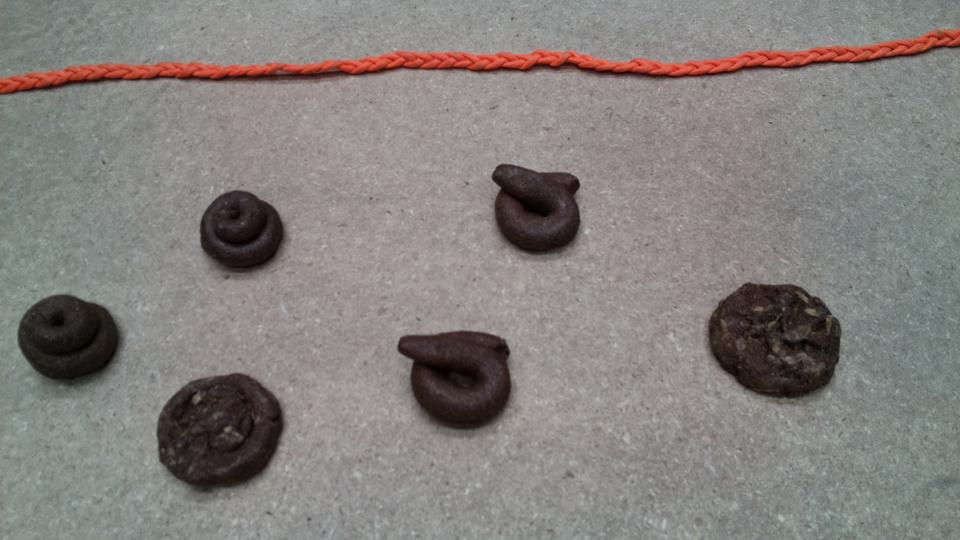poop: (705, 278, 845, 404), (153, 367, 287, 495), (394, 322, 514, 435), (14, 291, 131, 393), (490, 161, 590, 258), (195, 188, 289, 283)
rope: (1, 24, 959, 96)
